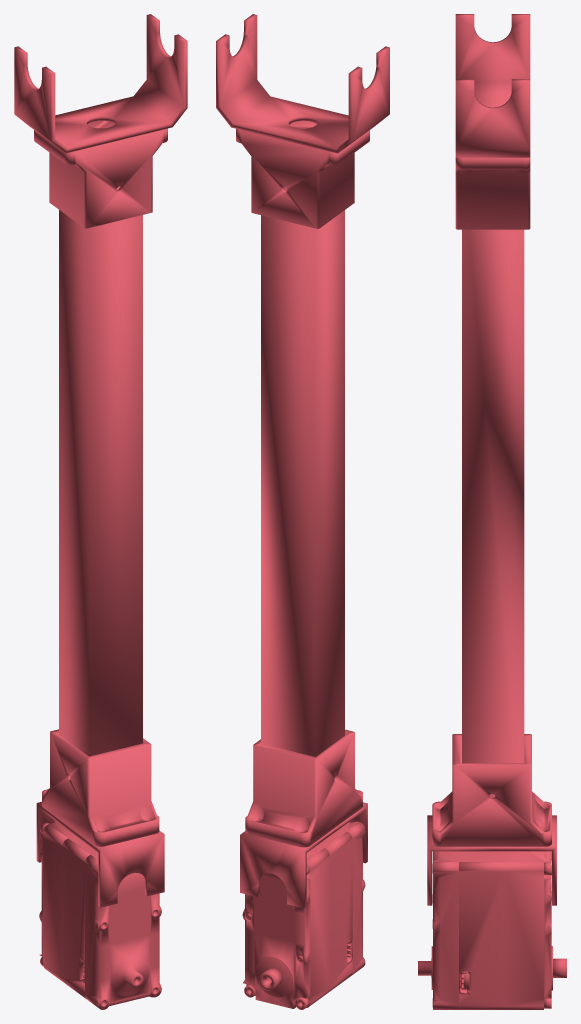
3 renders of one model, left to right at view 1: azimuth 30°, elevation 25°; view 2: azimuth 150°, elevation 25°; view 3: azimuth 270°, elevation 25°, orthographic.
Visible parts, largest first — view 1: ID2; view 2: ID2; view 3: ID2.
Part boxes in pixels (x1,y1,x2,y2): ID2: [14, 14, 187, 1009]; ID2: [216, 14, 389, 1009]; ID2: [418, 14, 566, 1009].
Size of the model in its own units: 0.0641 by 0.0598 by 0.4204.
